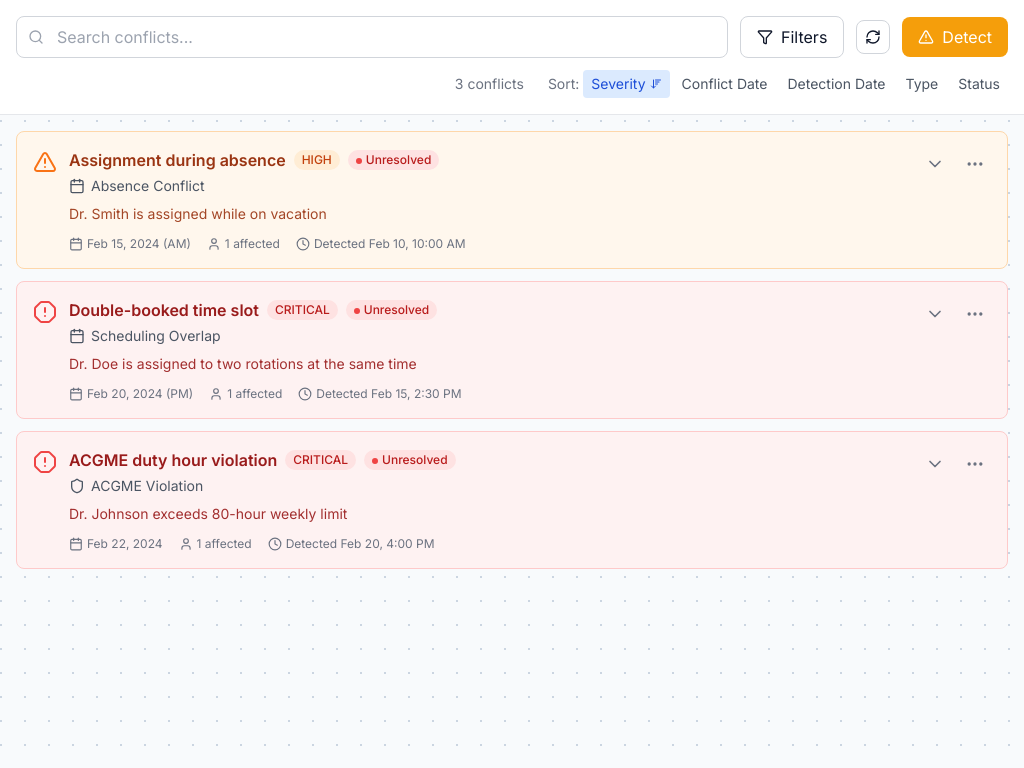
Test: ConflictList › Filter Functionality › should close filter panel when clicked again
Click the button "Filters". click: point(792, 37)
box: [740, 16, 844, 58]
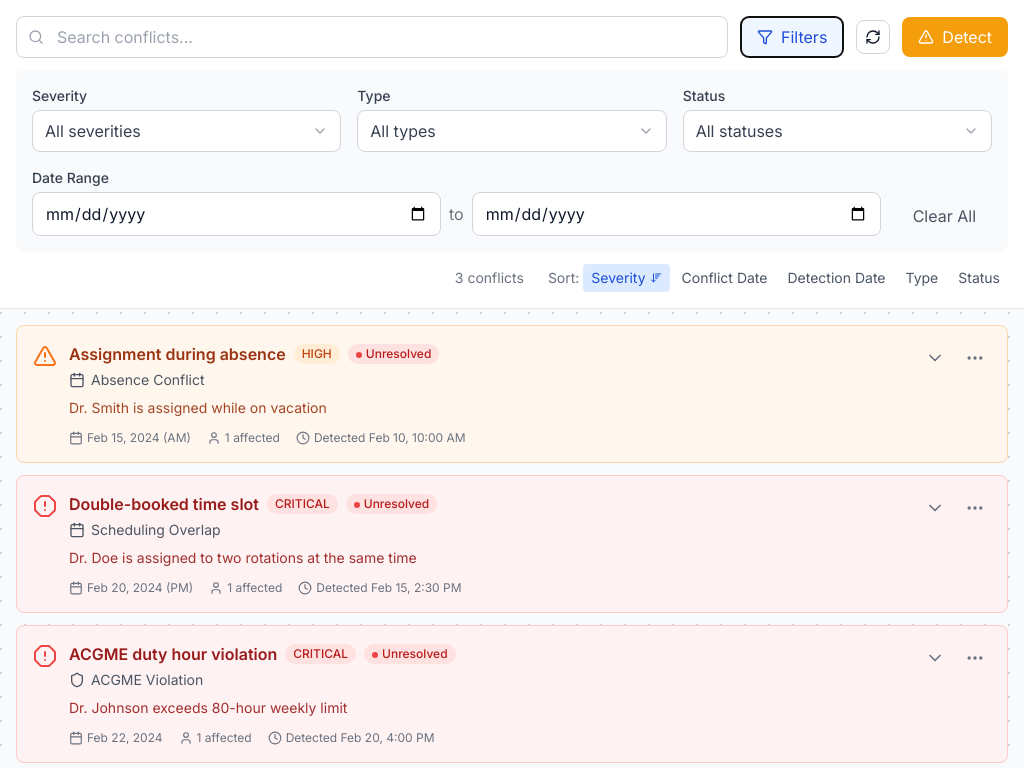
Click the button "Filters". click: point(792, 37)
box: [740, 16, 844, 58]
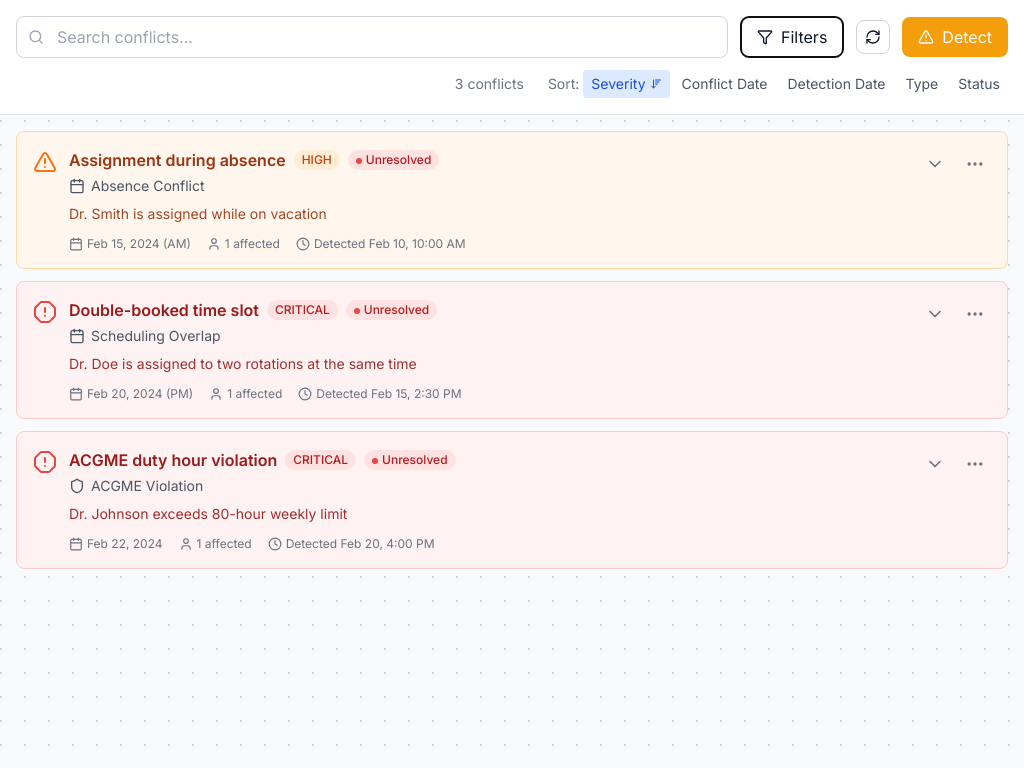
Now the button "All severities" is gone
